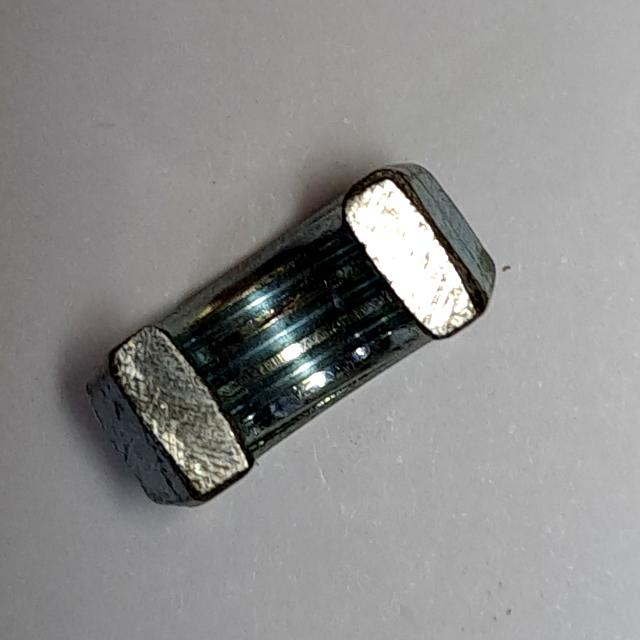Side-Fracture: (68, 151, 503, 514)
